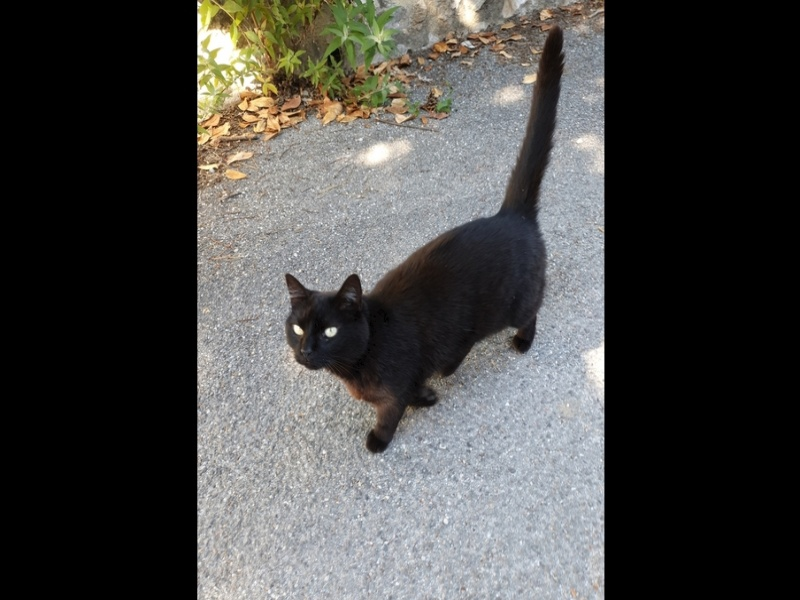cat: (277, 26, 574, 457)
